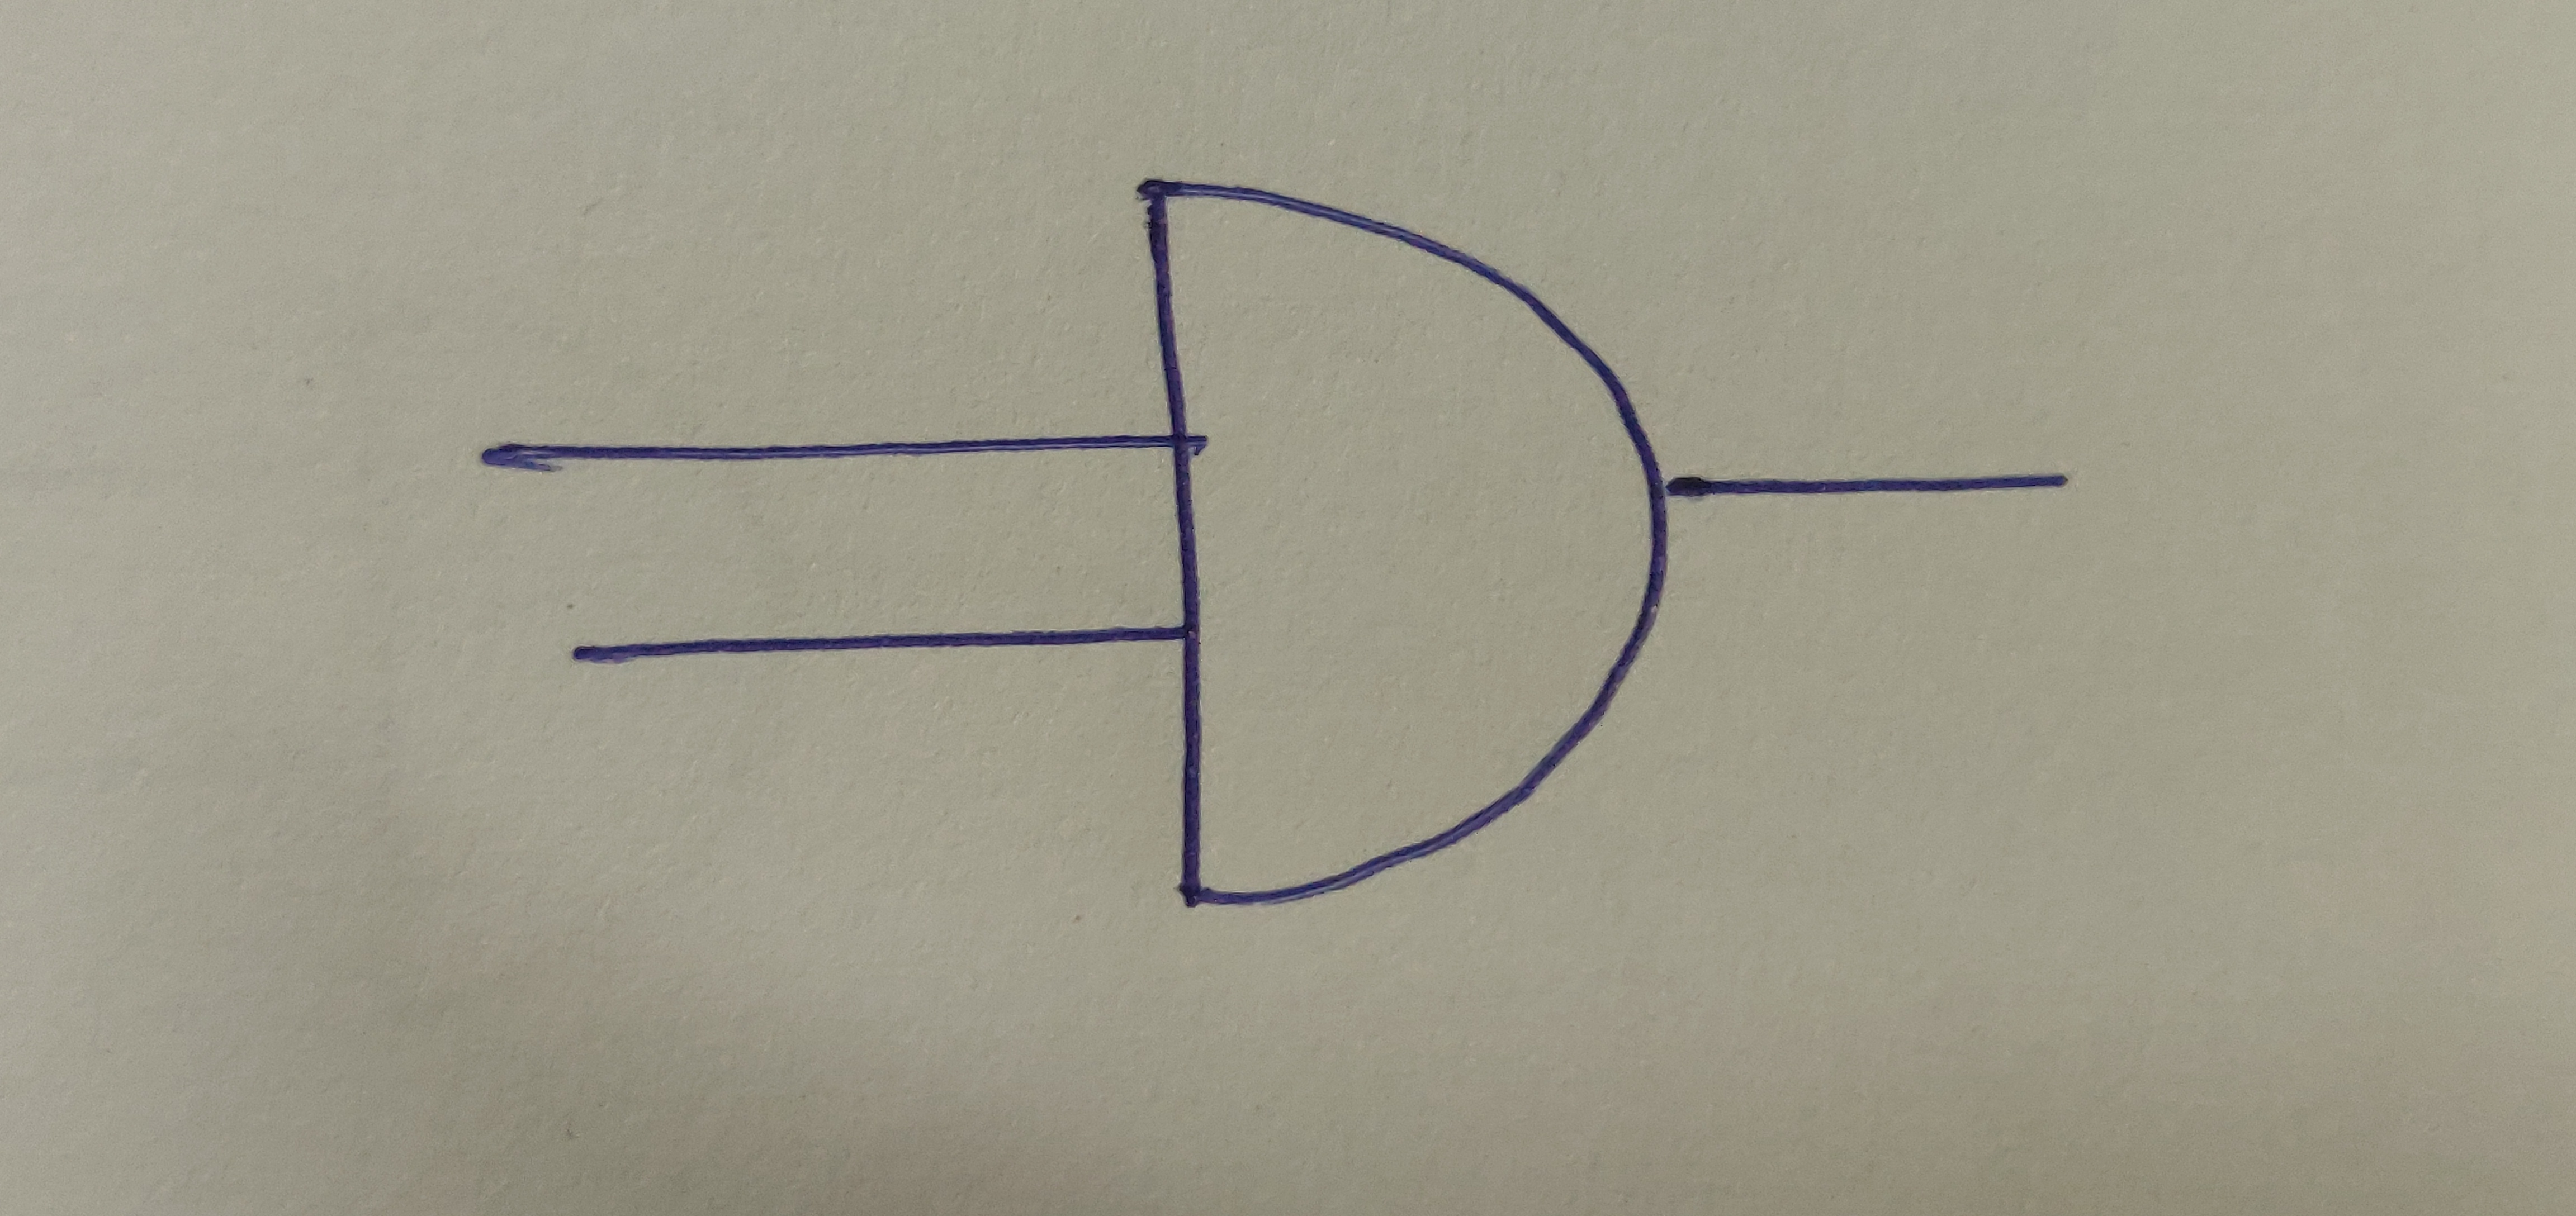and: (1130, 171, 1677, 914)
